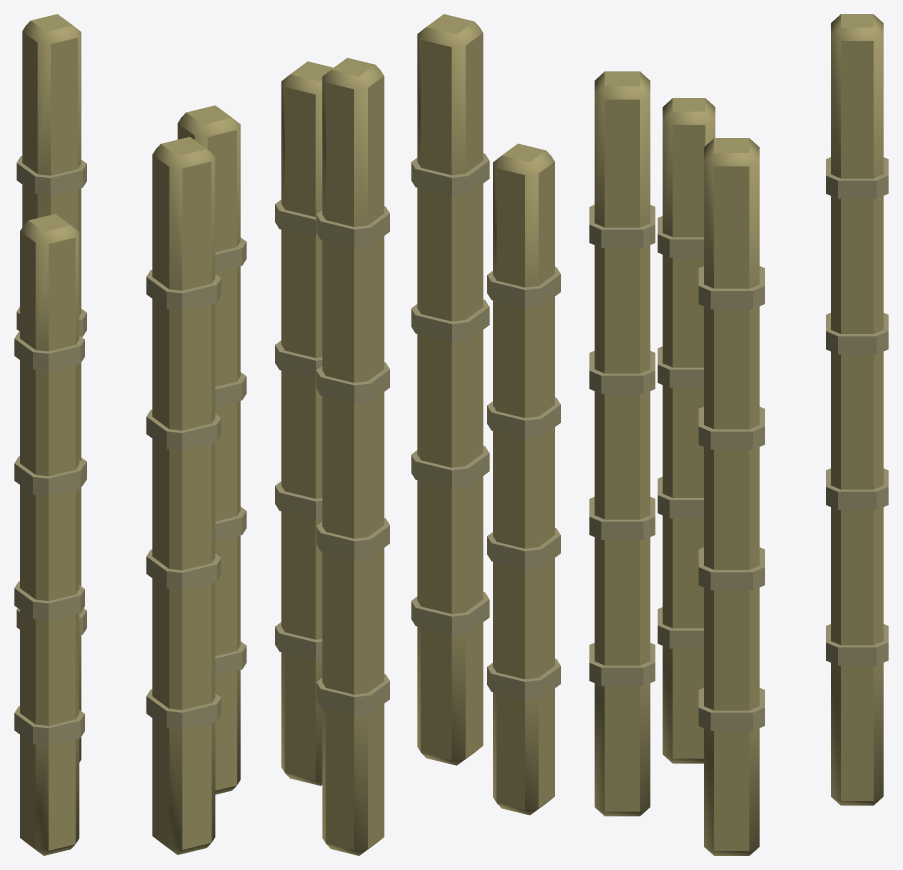
The model's file is bamboo.glb.
3 renders of one model, left to right at view 1: azimuth 30°, elevation 25°; view 2: azimuth 150°, elevation 25°; view 3: azimuth 270°, elevation 25°, orthographic. The views are drawn at different scales.
Parts seen in each view (by area): view 1: Bamboo; view 2: Bamboo; view 3: Bamboo.
Boxes of the visible parts, left/top/right/bottom form: Bamboo: left=14, top=14, right=246, bottom=855; Bamboo: left=275, top=14, right=560, bottom=855; Bamboo: left=589, top=14, right=888, bottom=855.
Bounding box in the file's own units: 1.46 × 4.44 × 1.55.
1 material, 1 textured.
